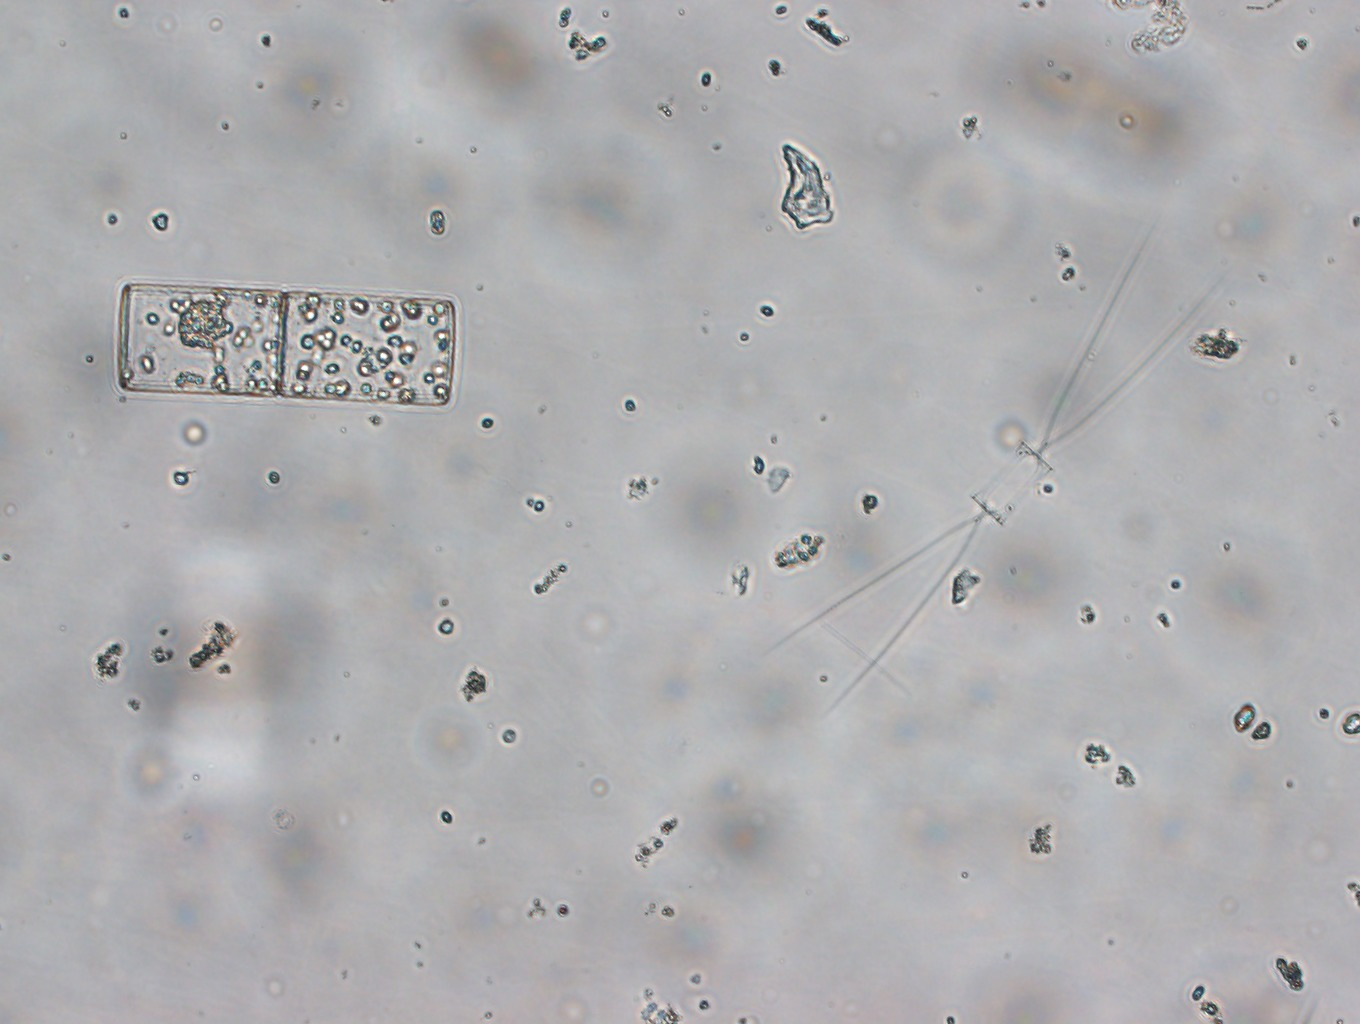chaetoceros: (751, 222, 1230, 711)
guinardia flaccida: (108, 274, 469, 417)
